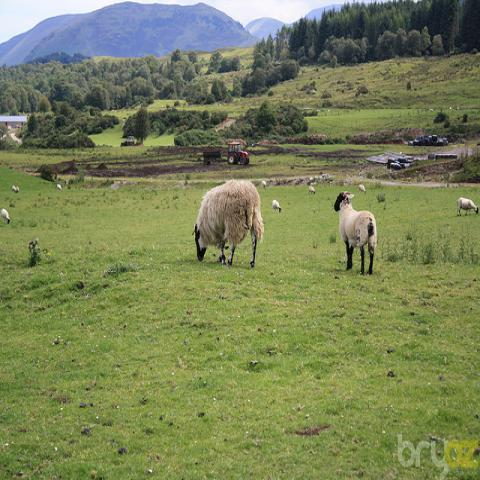truck: (202, 141, 250, 166)
